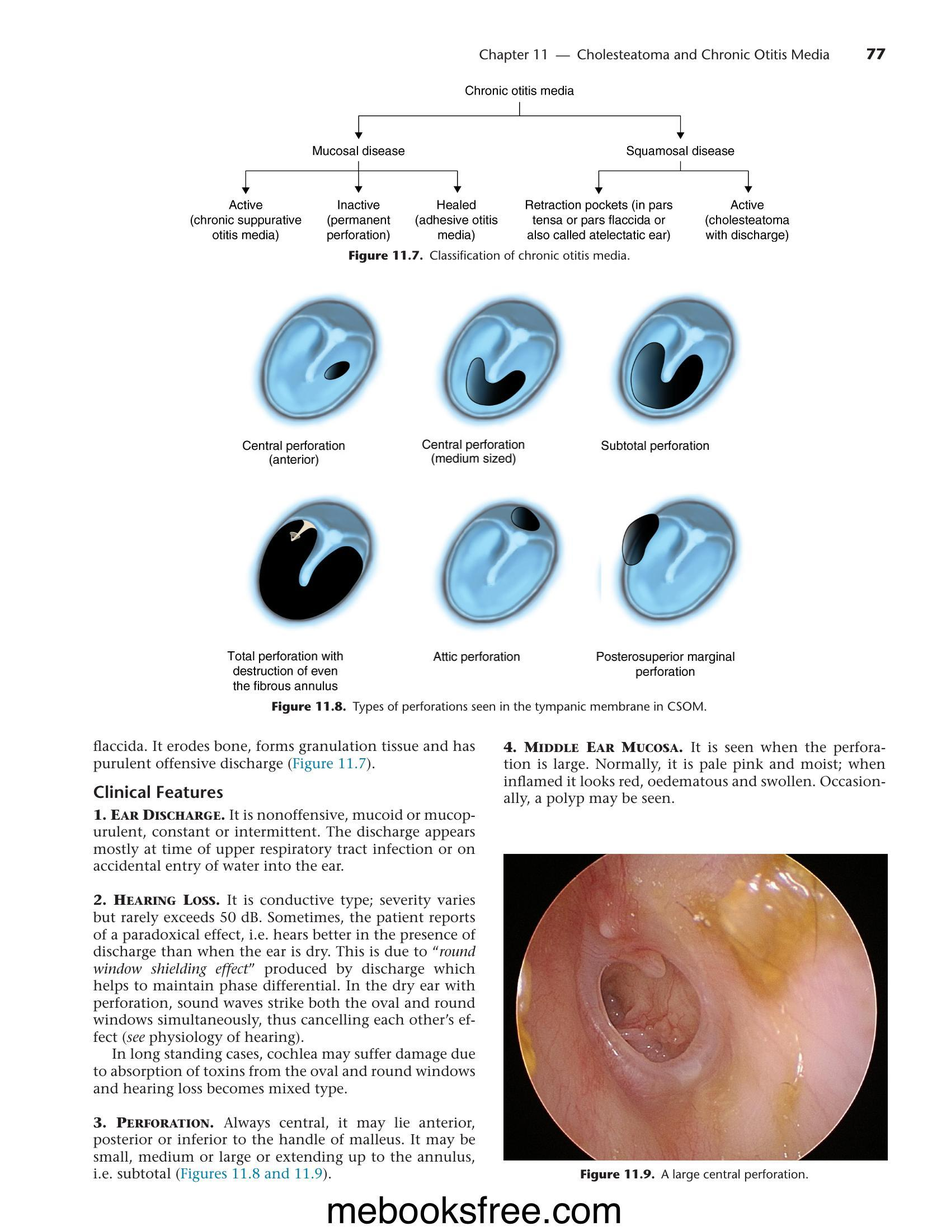caption: (270, 699, 708, 717), (347, 248, 631, 264), (579, 1167, 809, 1183)
header: (478, 47, 830, 64)
image: (196, 271, 783, 694), (501, 851, 890, 1162), (179, 74, 812, 246)
list: (92, 805, 477, 1182), (502, 739, 888, 808)
sub-section-heading: (92, 782, 224, 801)
text: (92, 737, 476, 775)
